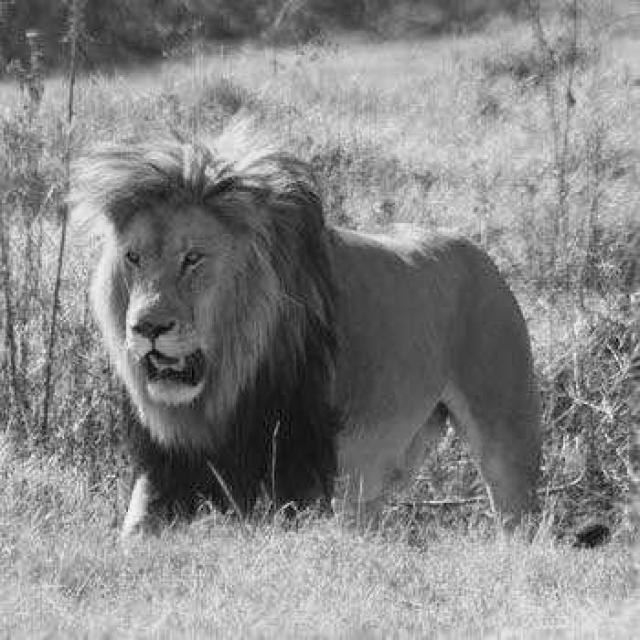Lion: (75, 82, 572, 534)
